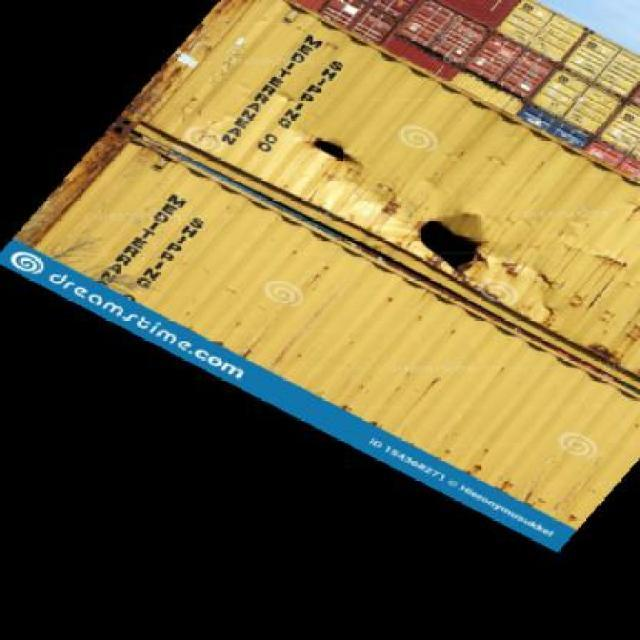hole: (299, 106, 391, 203), (410, 204, 507, 284)
rust: (504, 251, 635, 337)
